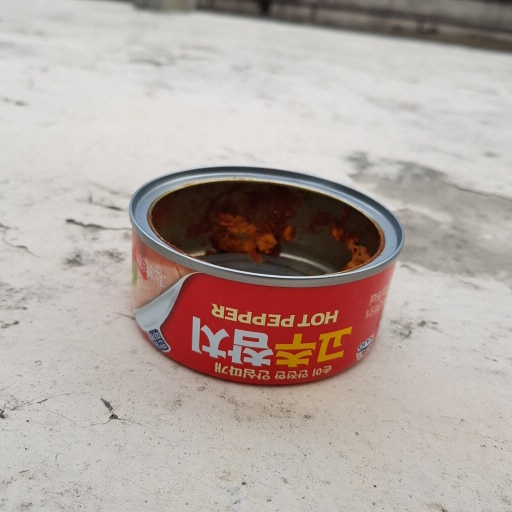Metal_1: (128, 164, 405, 388)
